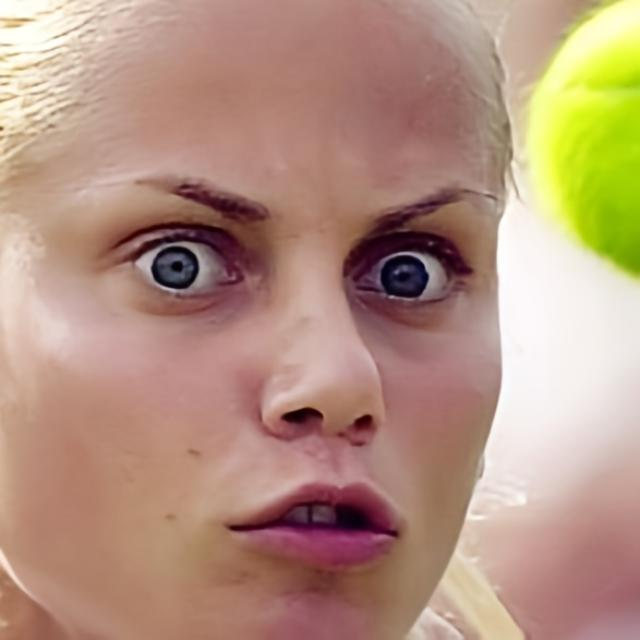fear: (4, 2, 514, 640)
